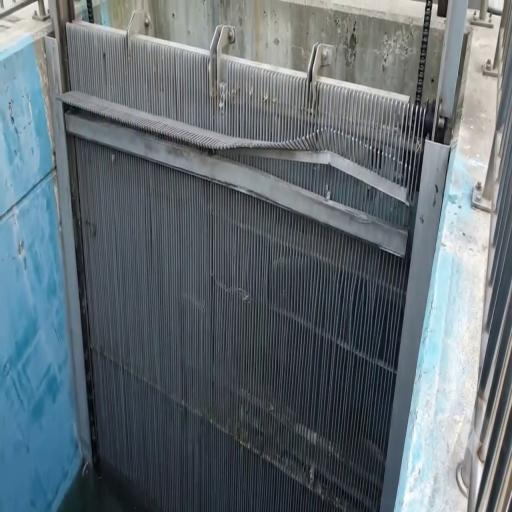rake_broken: (179, 114, 421, 217)
